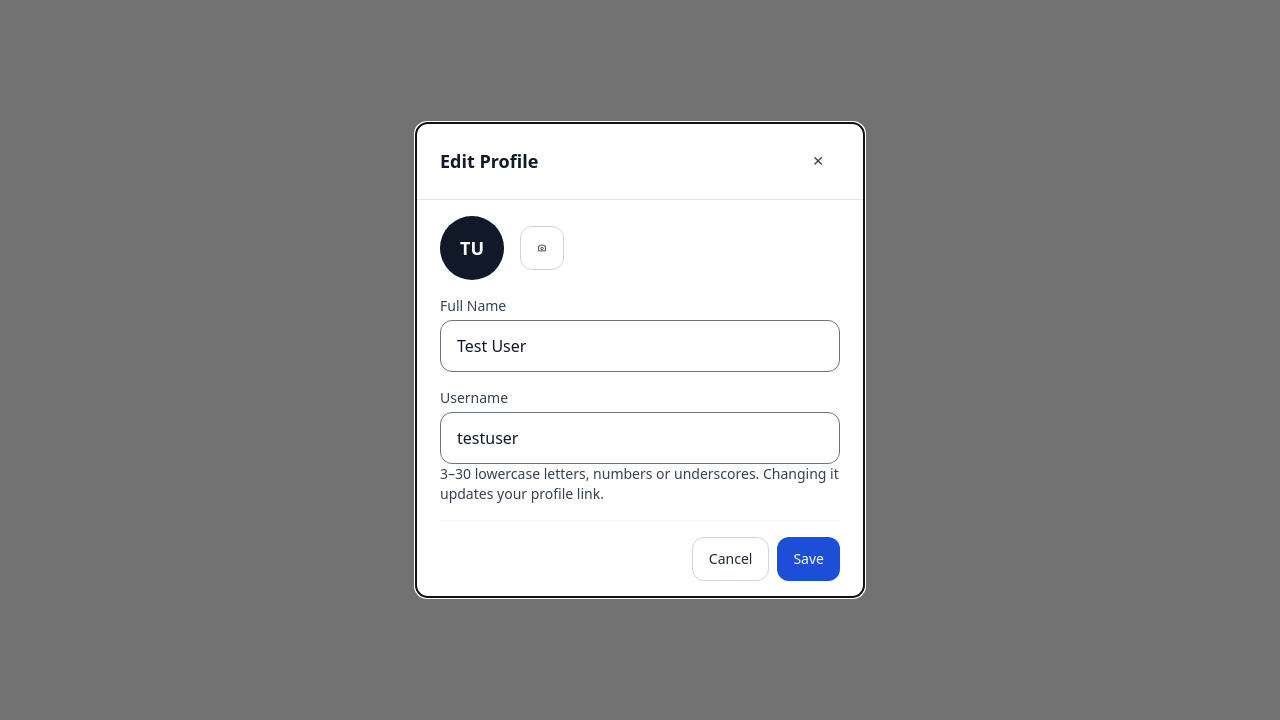
Test case: EditProfileModal › checks username availability when provided
Replace the text in the field labelled "Full Name" with "New Name" at (640, 346), box [440,320,840,372]
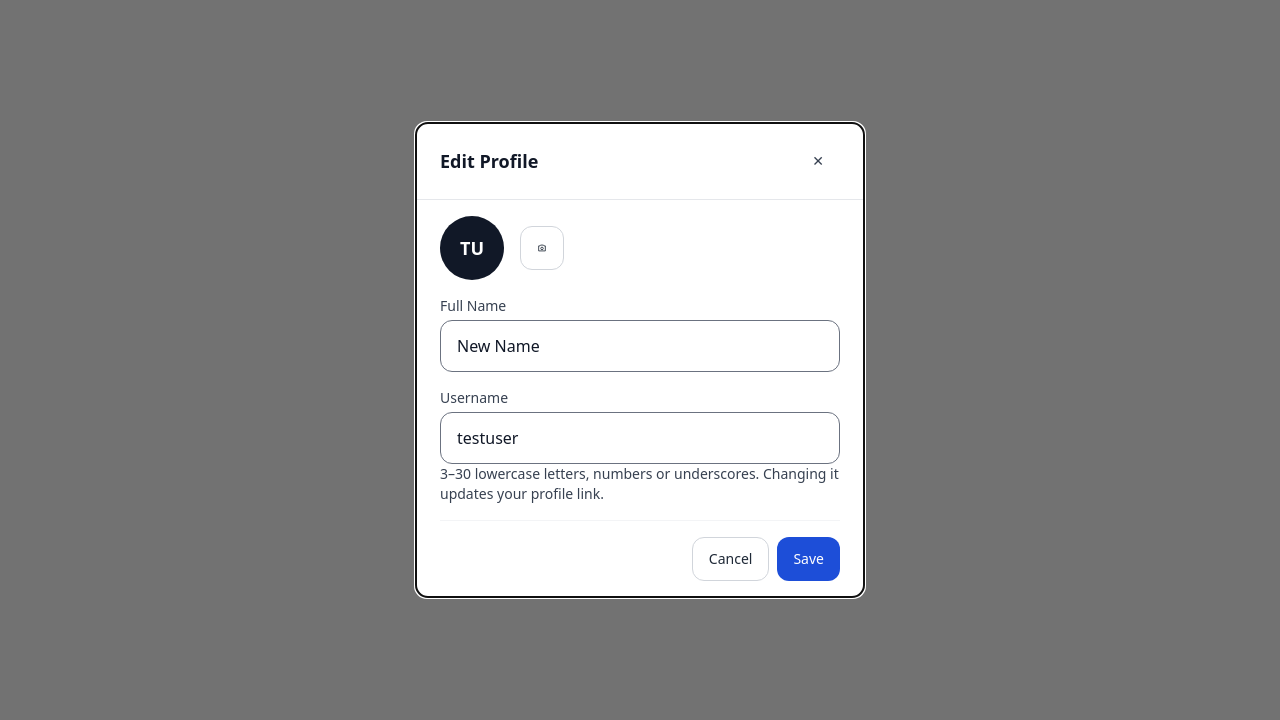
Replace the text in the field labelled "Username" with "newuser" at (640, 438), box [440,412,840,464]
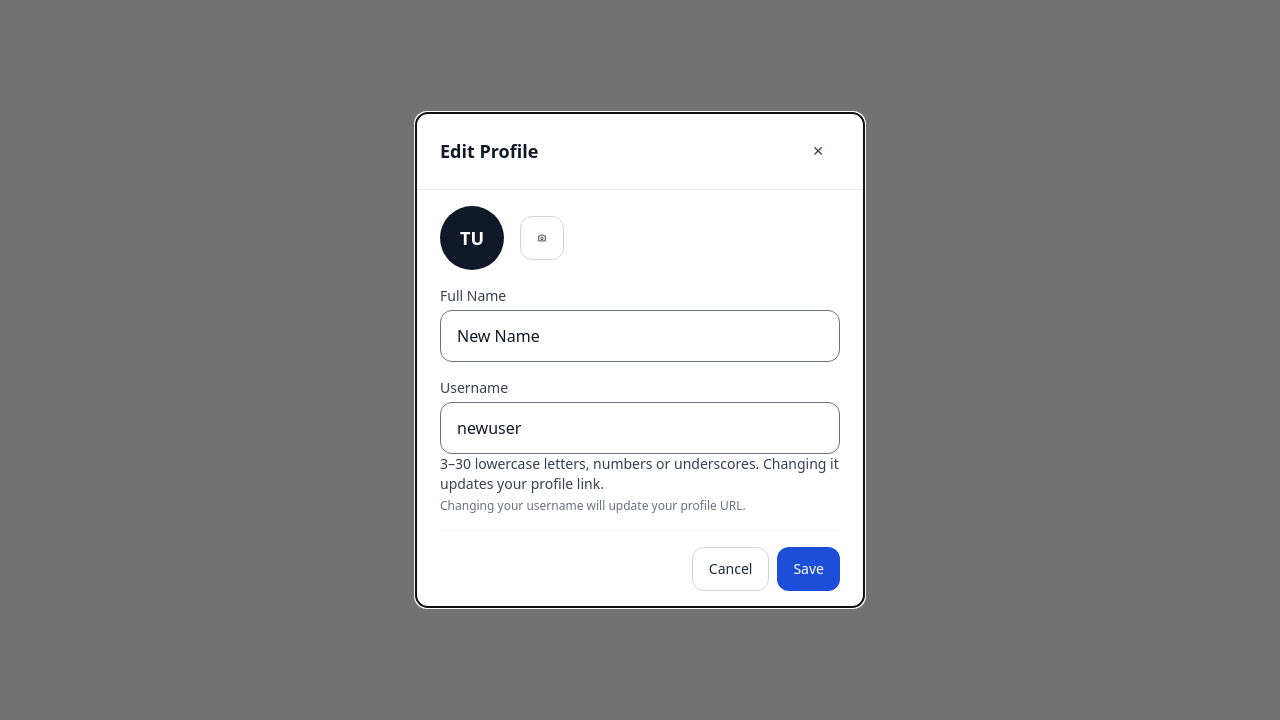
Click the button "Save" at (809, 569), box [777,547,840,591]
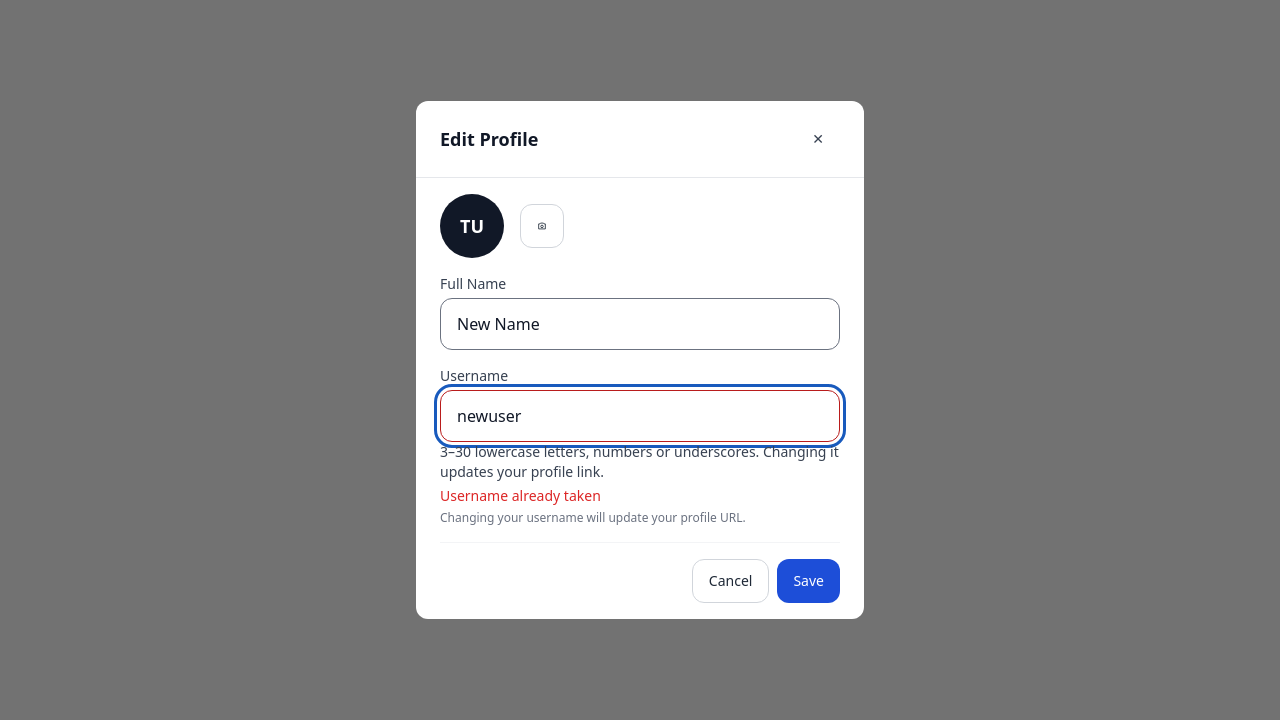
Result: the text "Username already taken" is shown at [440,486,601,505]
